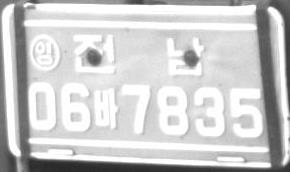0: (27, 81, 56, 132)
3: (192, 85, 225, 137)
5: (229, 87, 264, 138)
6: (59, 81, 90, 133)
7: (121, 83, 151, 135)
8: (155, 84, 190, 136)
바: (93, 88, 119, 130)
영: (29, 34, 61, 71)
전남_D: (72, 33, 205, 76)
